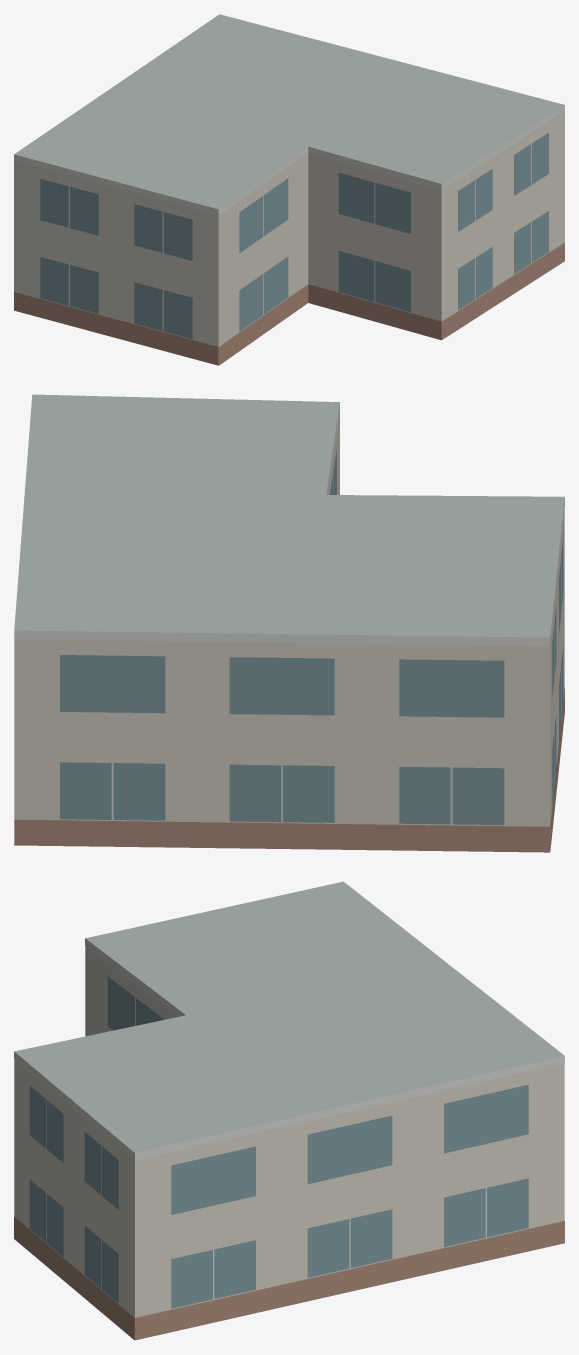
The model's file is survey-upis-32964876.glb.
3 renders of one model, top to bottom at view 1: azimuth 30°, elevation 25°; view 2: azimuth 150°, elevation 25°; view 3: azimuth 270°, elevation 25°, orthographic. The views are drawn at different scales.
Parts seen in each view (by area): view 1: survey-upis-32964876.tmp; view 2: survey-upis-32964876.tmp; view 3: survey-upis-32964876.tmp.
Boxes of the visible parts, left/top/right/bottom form: survey-upis-32964876.tmp: left=14, top=14, right=564, bottom=365; survey-upis-32964876.tmp: left=14, top=394, right=564, bottom=852; survey-upis-32964876.tmp: left=14, top=881, right=564, bottom=1340.
Size of the model in its own units: 18.95 by 6.1 by 16.25.
